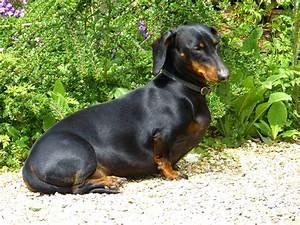dog: (21, 21, 230, 195)
